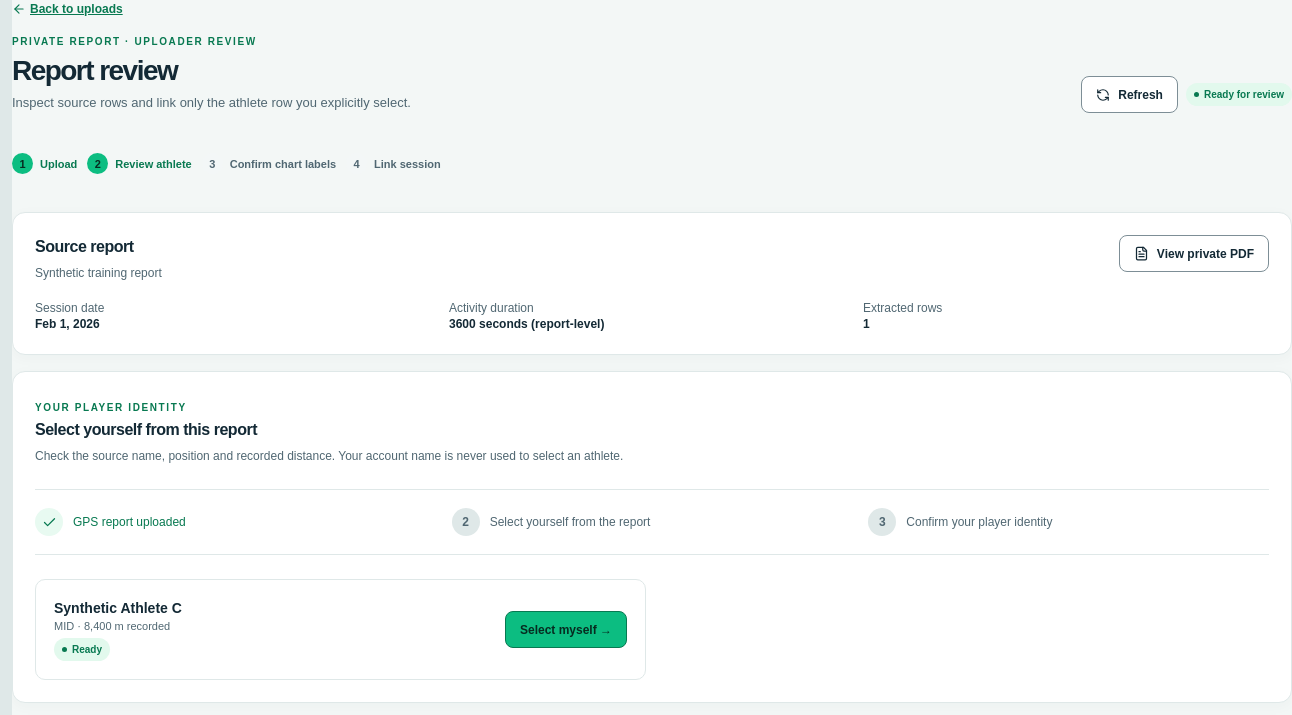
uploader review flow › keeps conflicts visible and does not navigate
The image size is (1292, 715).
Click the button with aria-label "select myself — synthetic athlete c" at [566, 630], box [505,611,627,648]
(page scrolled)
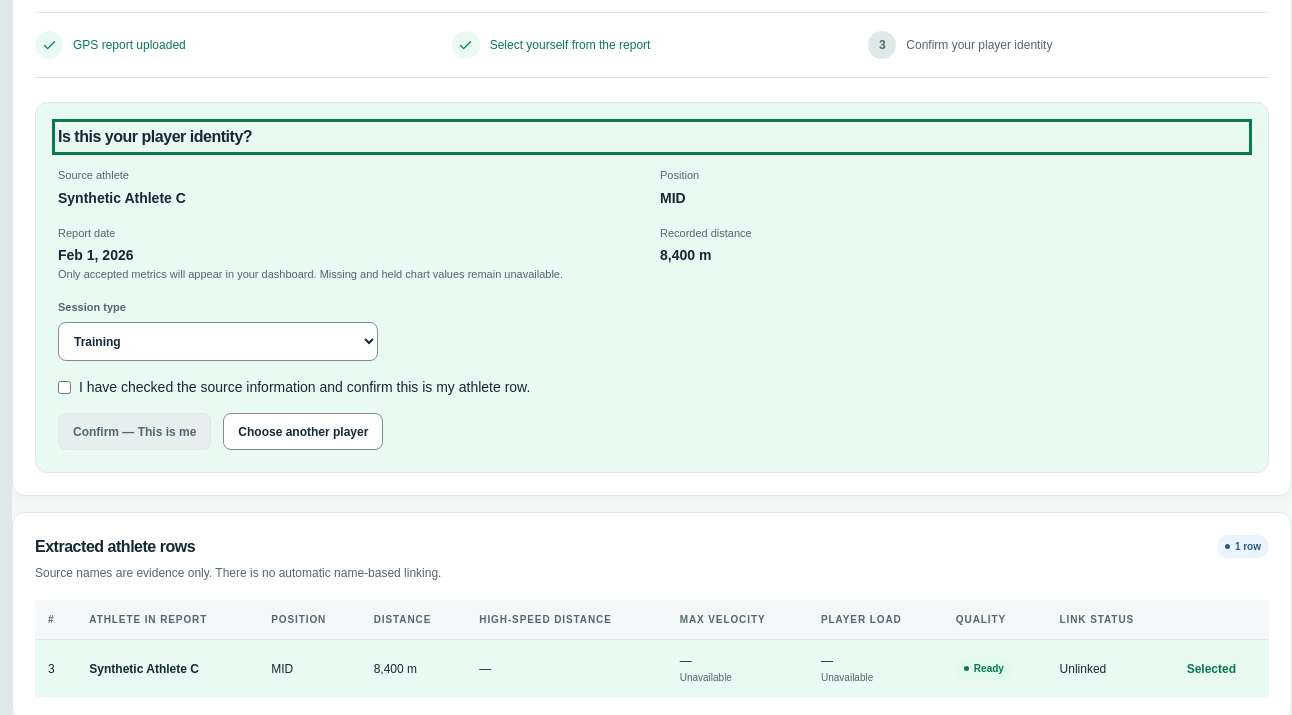
Click the checkbox at [64, 388], box [58,381,71,394]
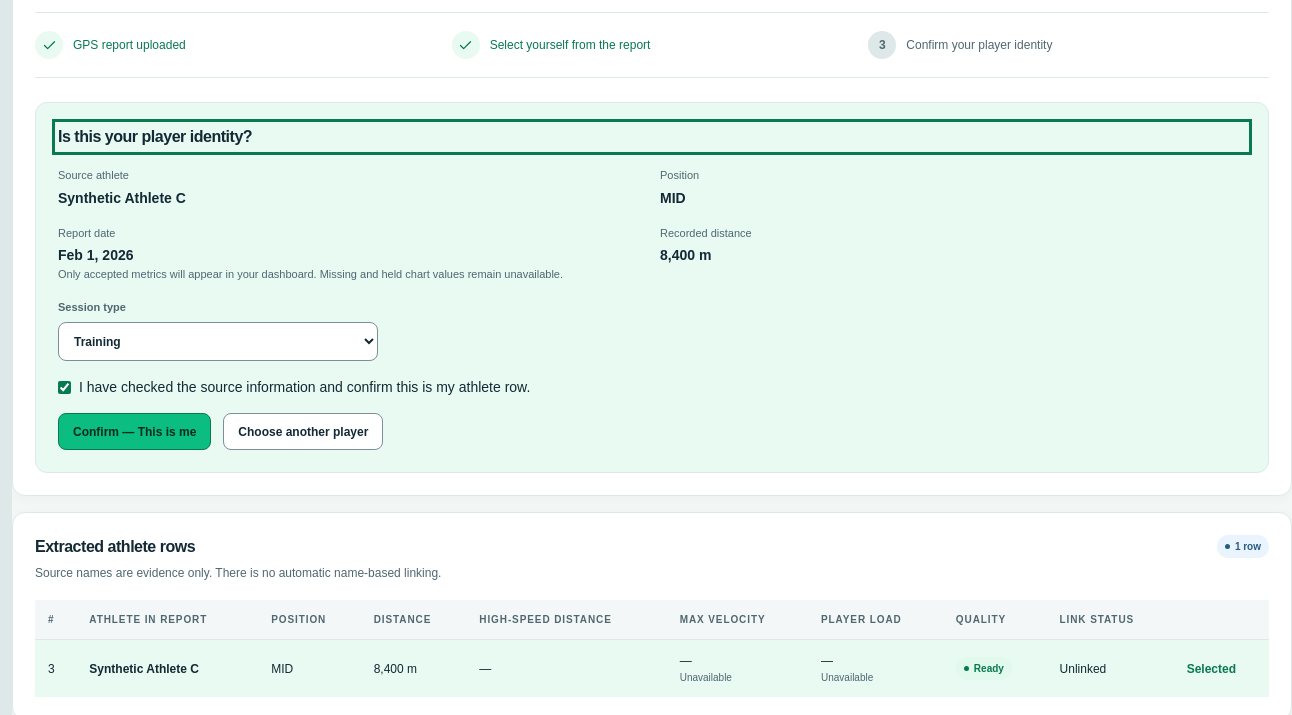
Click the button "Confirm — This is me" at [135, 432], box [58,413,211,450]
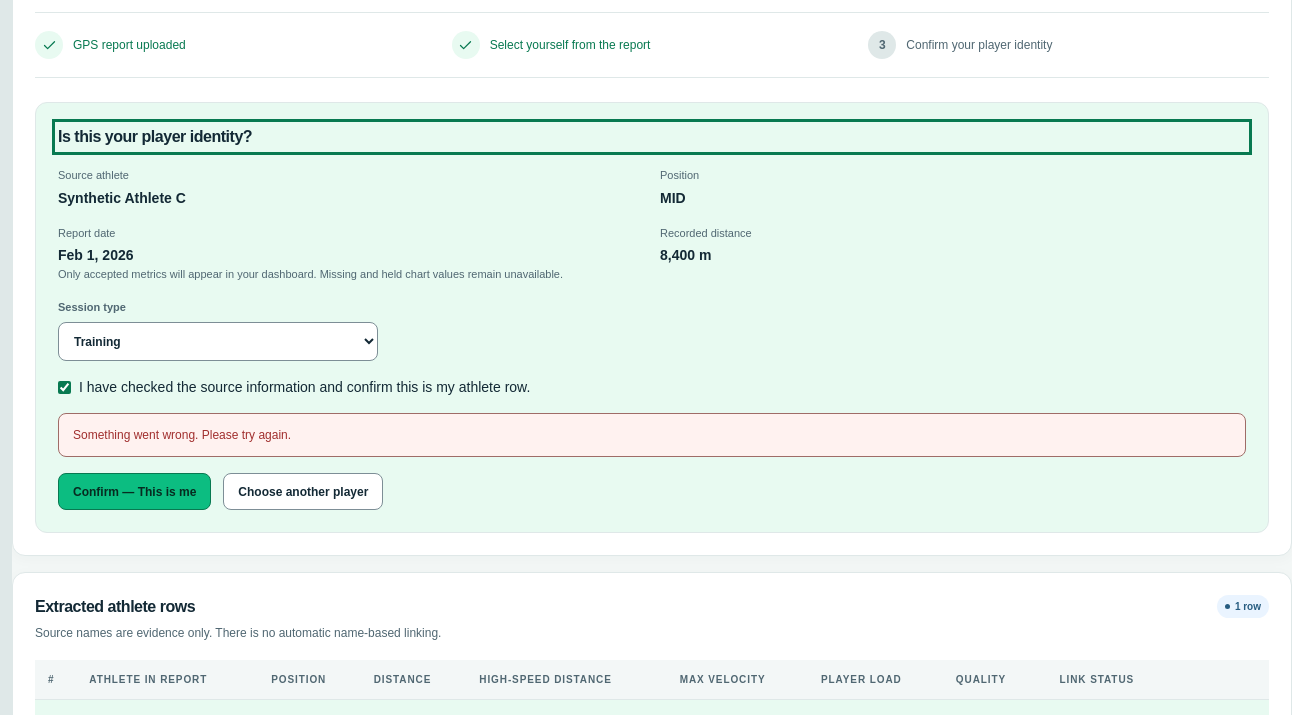
Now the button "Choose another player" is enabled, box [223,473,383,510]
Now the message reads "Something went wrong. Please try again.", box [73,428,291,442]
